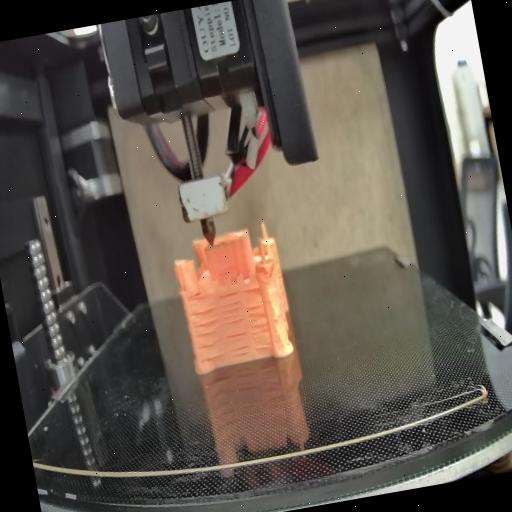cracks: (188, 306, 226, 364), (245, 300, 274, 354), (216, 289, 246, 326), (224, 327, 252, 358), (240, 282, 260, 296)
